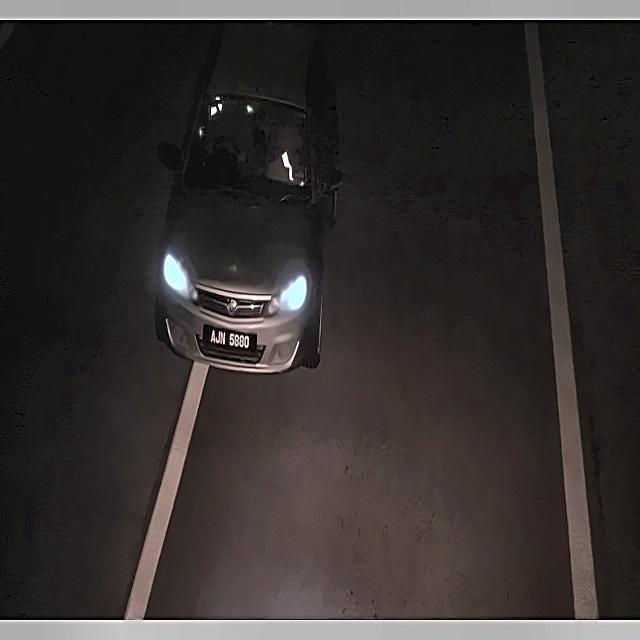car: (197, 319, 264, 357)
